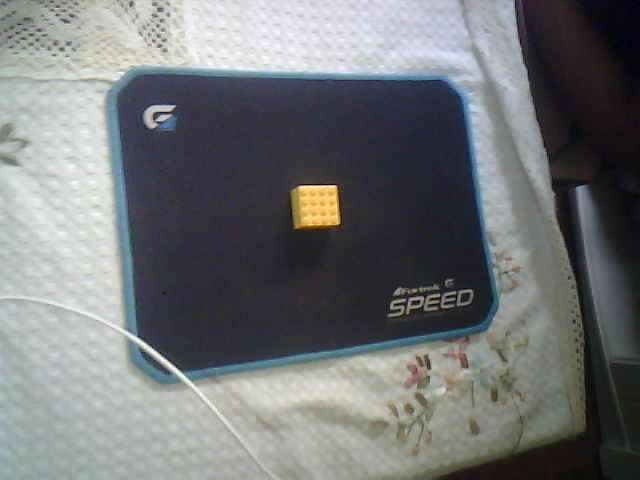lego: (289, 184, 342, 231)
